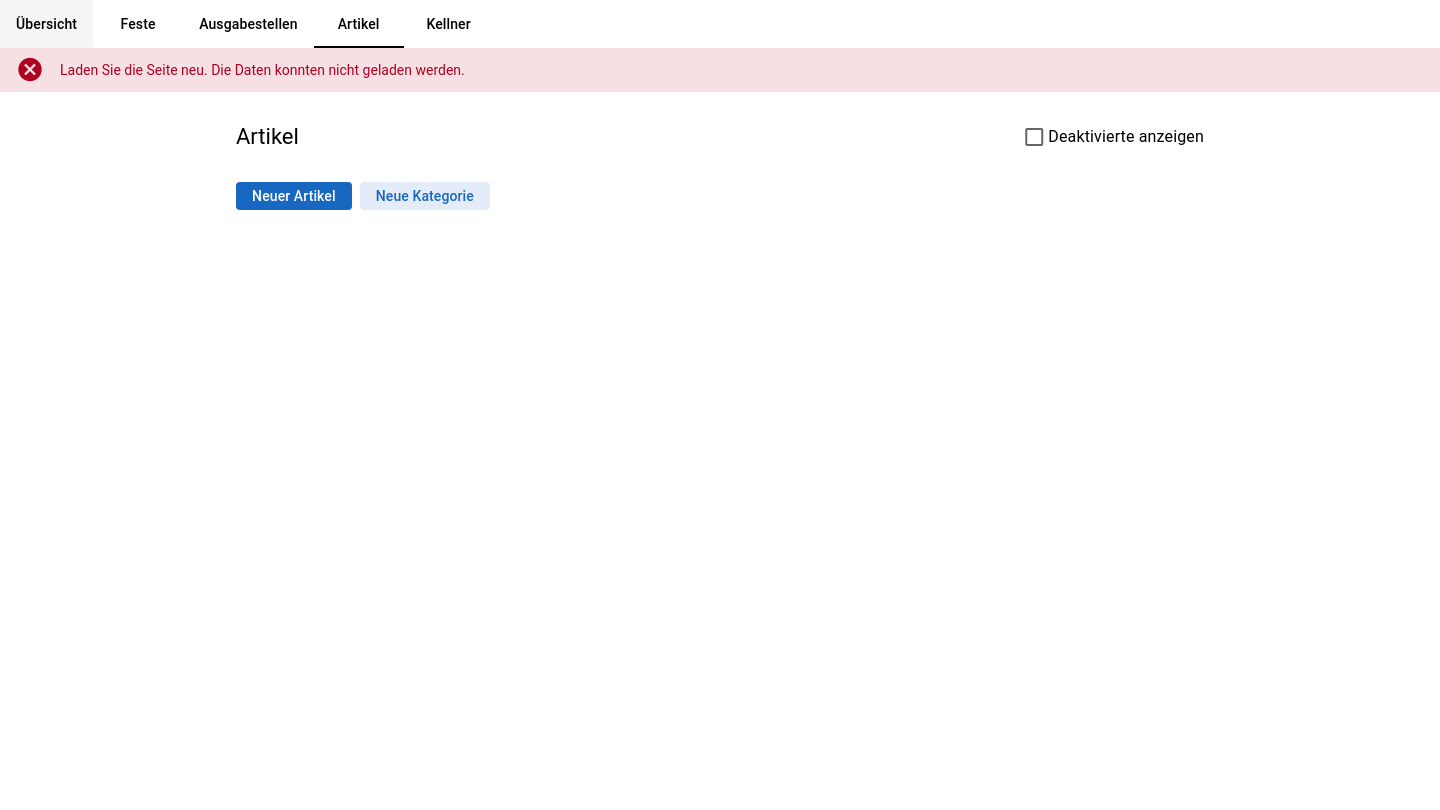
Scenario: the sizes of the controls on the laptop and on the phone › gives the menu of a select in the admin the admin sizes
The image size is (1440, 810).
Click the button with test id "new-item": (294, 196) [236, 182, 352, 210]
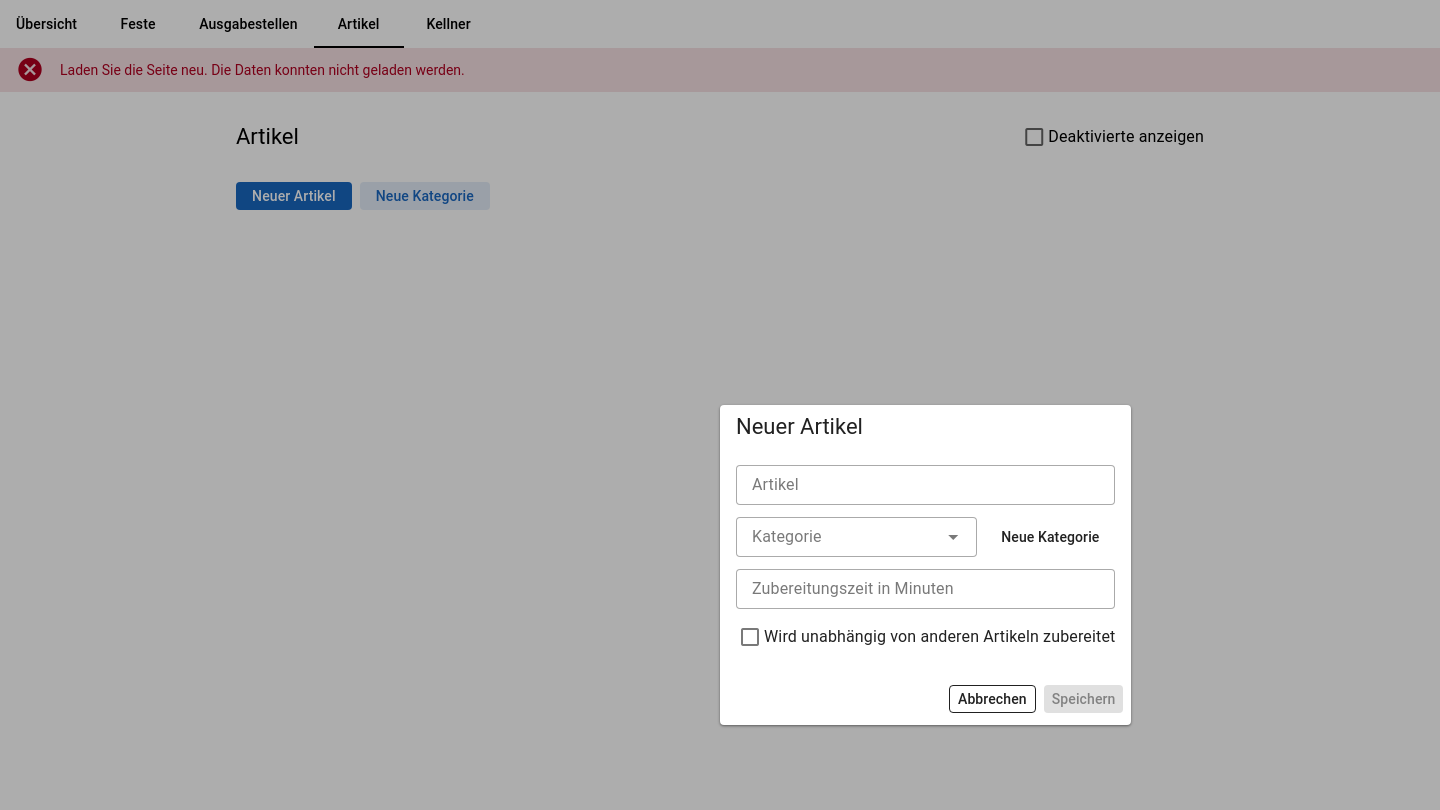
Check: the element with test id "category-field" is shown
Press the mouse on the dropdown labelled "Kategorie": (857, 537) [736, 517, 977, 557]
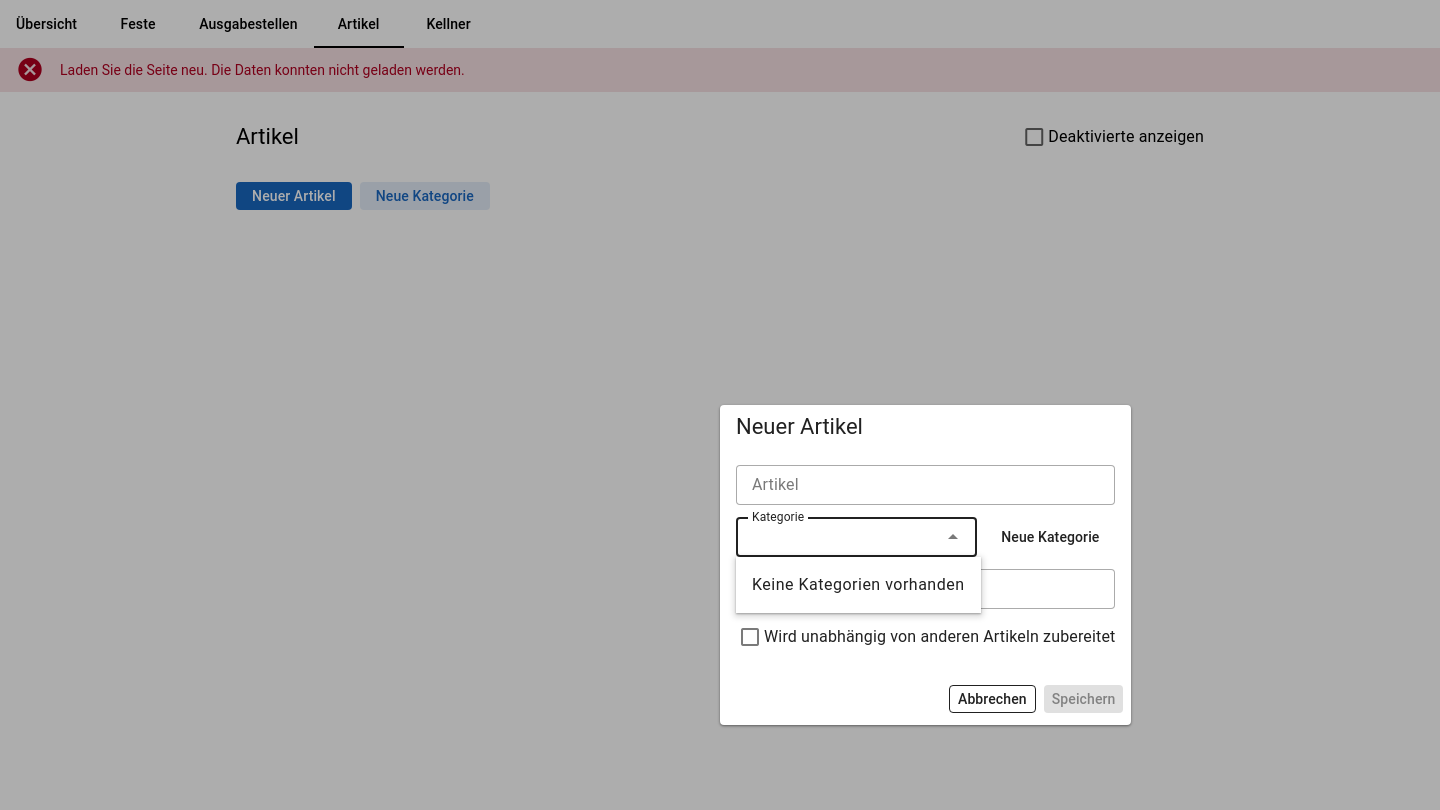
Check: the element showing "Keine Kategorien vorhanden" is shown, box [736, 557, 980, 613]
